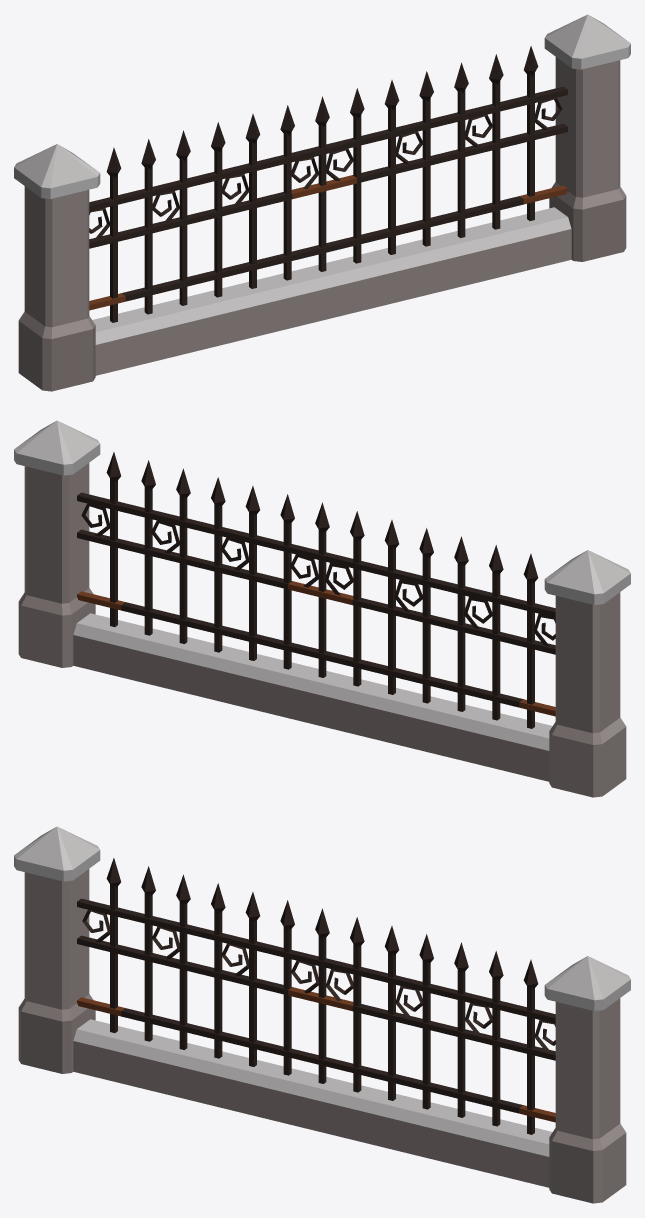
File: wrought-iron-cemetery-fence-f1a113.glb
3 renders of one model, top to bottom at view 1: azimuth 30°, elevation 25°; view 2: azimuth 150°, elevation 25°; view 3: azimuth 330°, elevation 25°, orthographic.
Parts seen in each view (by area): view 1: fence; view 2: fence; view 3: fence.
Boxes of the visible parts, x1,y1,x2,y2 form: fence: (14, 14, 630, 391); fence: (14, 420, 630, 797); fence: (14, 826, 630, 1203).
Size of the model in its own units: 4 by 1.5 by 0.4.
